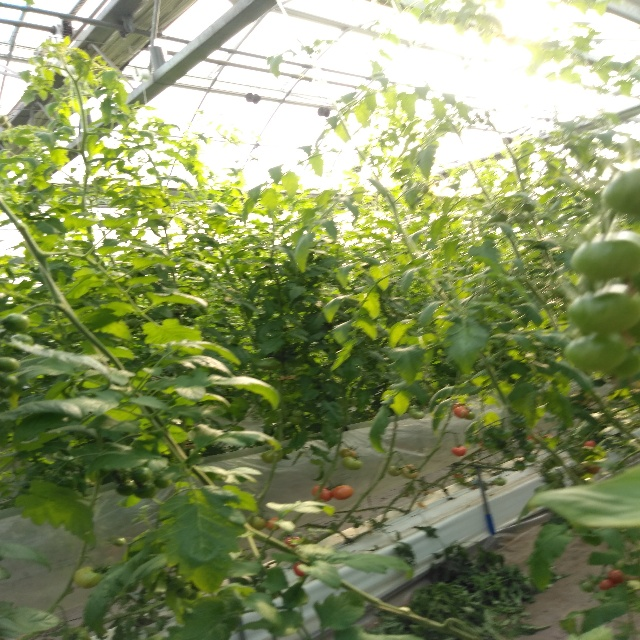l_fully_ripened: (312, 486, 333, 502)
l_green: (567, 285, 640, 334), (568, 231, 639, 280), (563, 334, 626, 371), (602, 166, 639, 215), (74, 567, 105, 588), (2, 313, 29, 332), (134, 482, 158, 499), (340, 456, 363, 470), (116, 481, 137, 496), (0, 357, 19, 373), (131, 467, 151, 482)
l_half_ripened: (332, 485, 353, 501)
